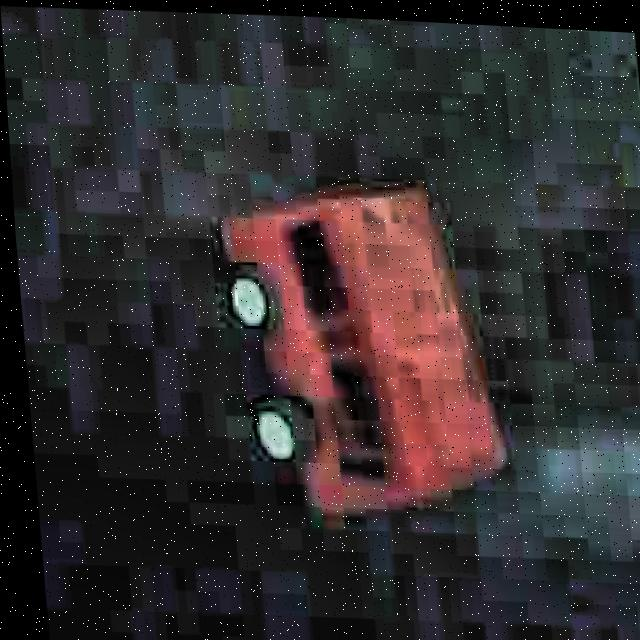bus: (202, 167, 505, 532)
